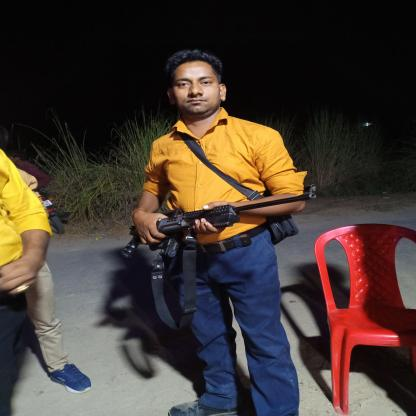rifle: (118, 183, 318, 261)
